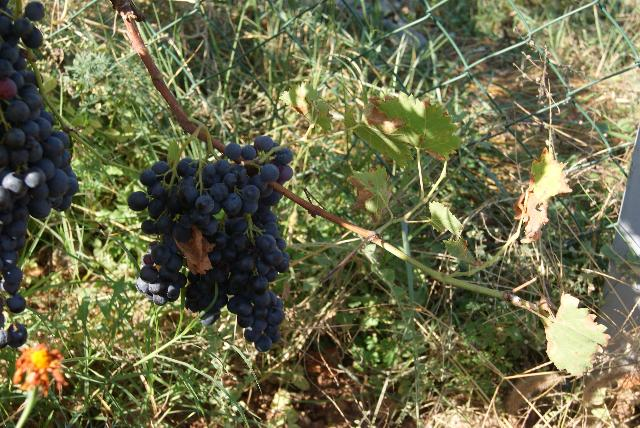grapes: (128, 158, 260, 305), (218, 231, 289, 352)
